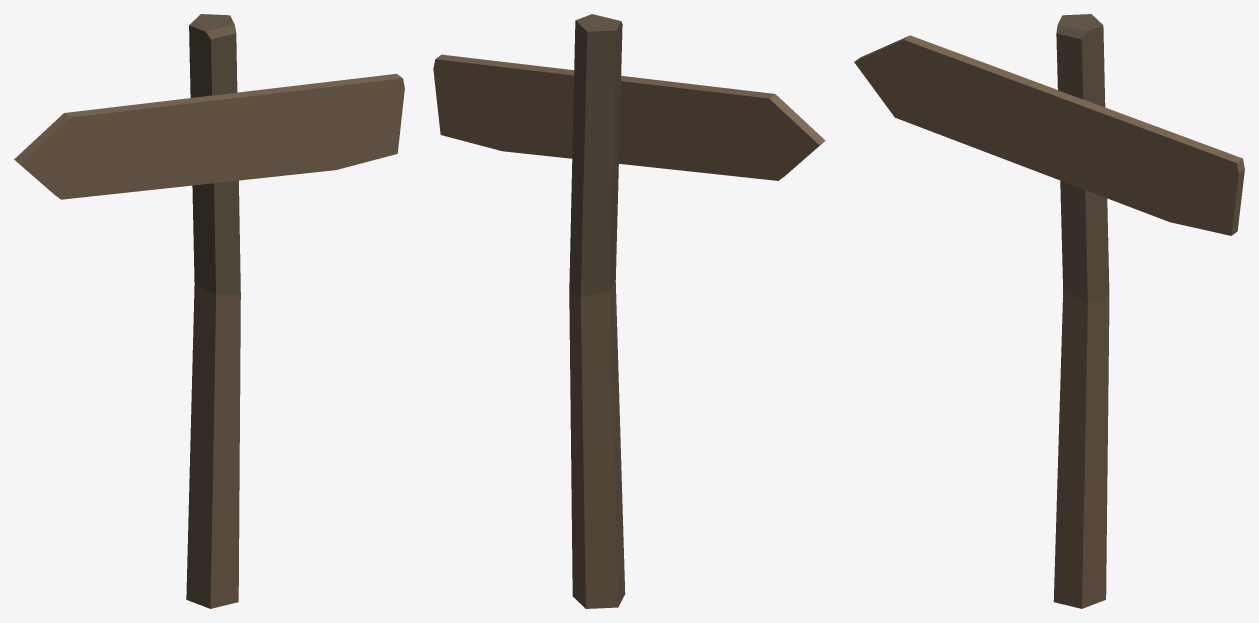
File: SM_Props_Farm_WoodArrowSign_01.fbx
The picture shows the model from 3 angles, left to right: view 1: azimuth 30°, elevation 25°; view 2: azimuth 150°, elevation 25°; view 3: azimuth 330°, elevation 25°; orthographic projection.
Parts seen in each view (by area): view 1: SM_Props_Farm_WoodArrowSign_01; view 2: SM_Props_Farm_WoodArrowSign_01; view 3: SM_Props_Farm_WoodArrowSign_01.
Part boxes in pixels (x1,y1,x2,y2): SM_Props_Farm_WoodArrowSign_01: (14,14,404,608); SM_Props_Farm_WoodArrowSign_01: (433,14,825,608); SM_Props_Farm_WoodArrowSign_01: (854,14,1244,608).
Size of the model in its own units: 85.46 by 122 by 11.45.
